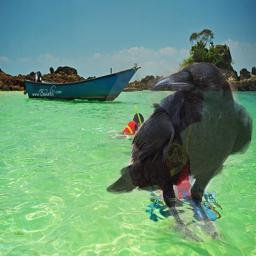Crow: (106, 62, 253, 242)
